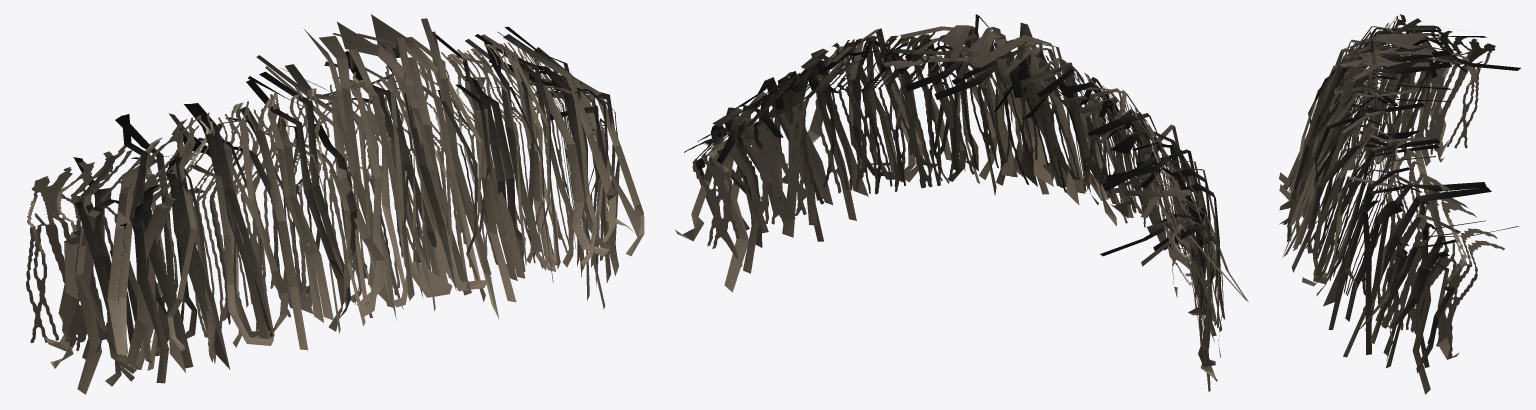
Rendered from mhw_rehmanpolanski_moustache_viking.glb.
3 renders of one model, left to right at view 1: azimuth 30°, elevation 25°; view 2: azimuth 150°, elevation 25°; view 3: azimuth 270°, elevation 25°, orthographic. The views are drawn at different scales.
Visible parts, largest first — view 1: mhw_rehmanpolanski_moustache_viking; view 2: mhw_rehmanpolanski_moustache_viking; view 3: mhw_rehmanpolanski_moustache_viking.
Part boxes in pixels (x1,y1,x2,y2): mhw_rehmanpolanski_moustache_viking: [26, 14, 644, 394]; mhw_rehmanpolanski_moustache_viking: [675, 14, 1248, 391]; mhw_rehmanpolanski_moustache_viking: [1279, 14, 1520, 394].
Bounding box in the file's own units: 0.0672 × 0.0364 × 0.0311.
1 material, 1 textured.
